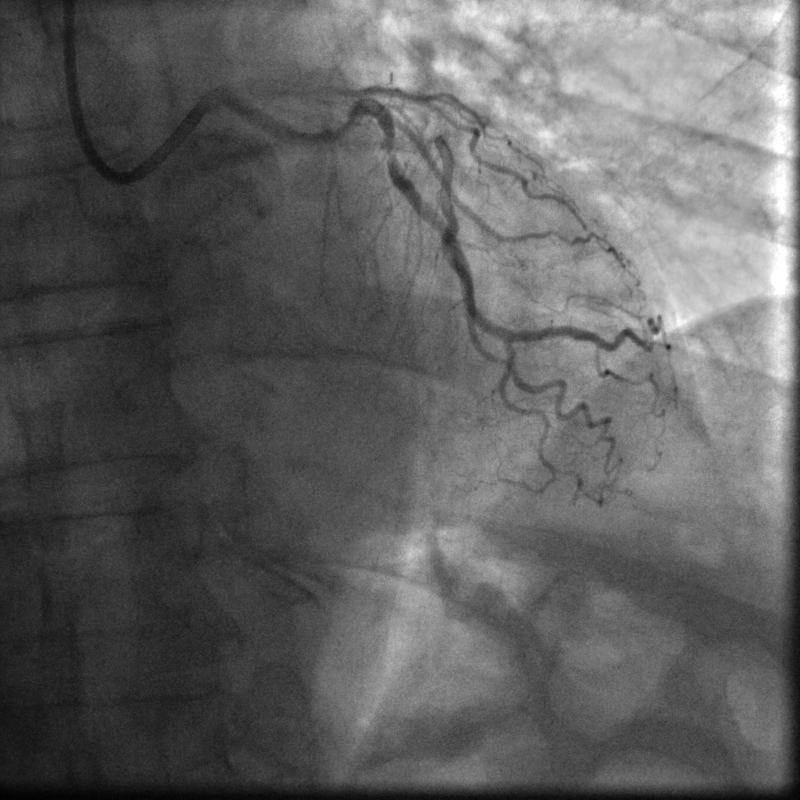Stenosis: (383, 139, 395, 158)
